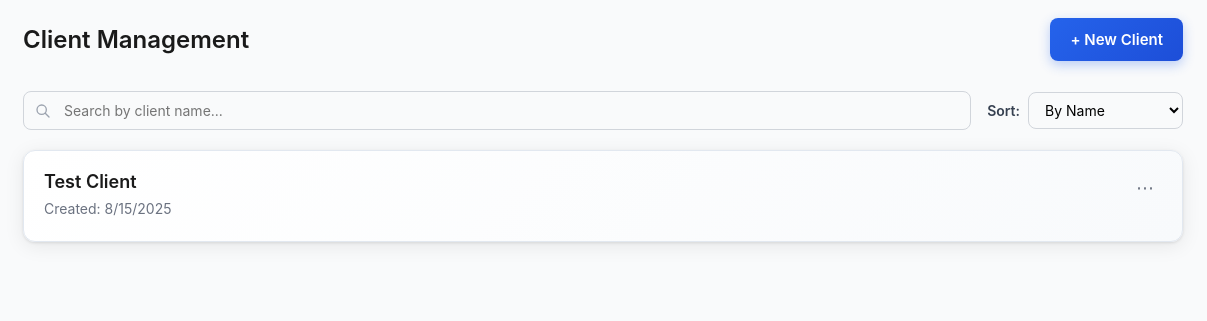
Test: ClientManagement Component › Client Actions › should show context menu with edit and delete options
Expected: the heading "Test Client" is shown, [44,171,137,192]
Note: Click on the context menu button (three dots)
Click the button named "more options". click: (1145, 188)
box: [1128,171,1162,205]
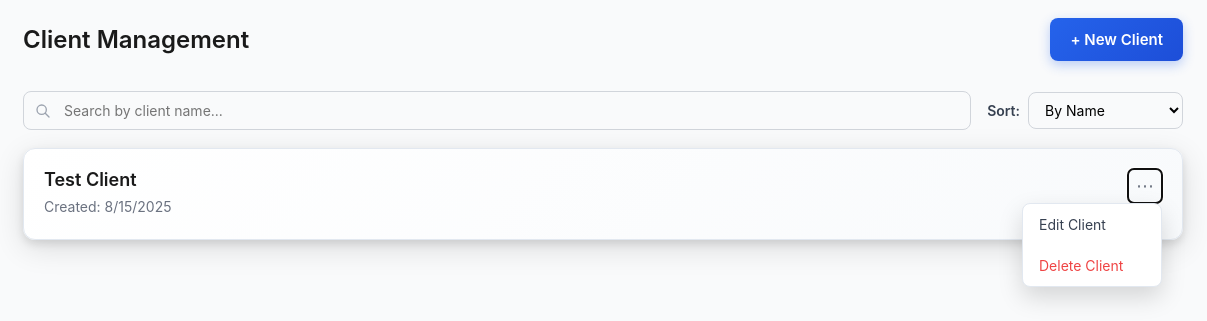
Now the button "Edit Client" is shown, box [1023,204,1161,245]
Now the button "Delete Client" is shown, box [1023,245,1161,286]
